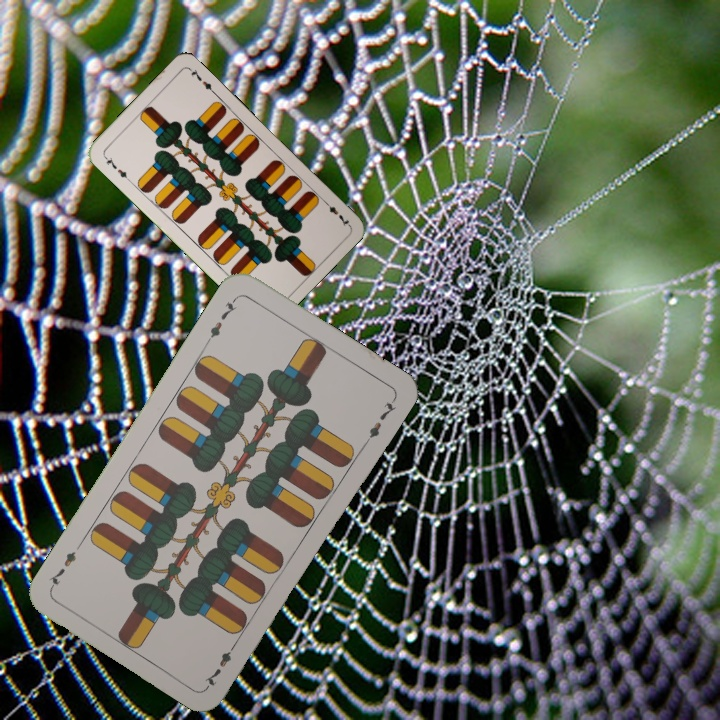E7: (200, 637, 240, 690), (202, 293, 240, 346), (320, 196, 352, 229), (100, 152, 133, 183)
